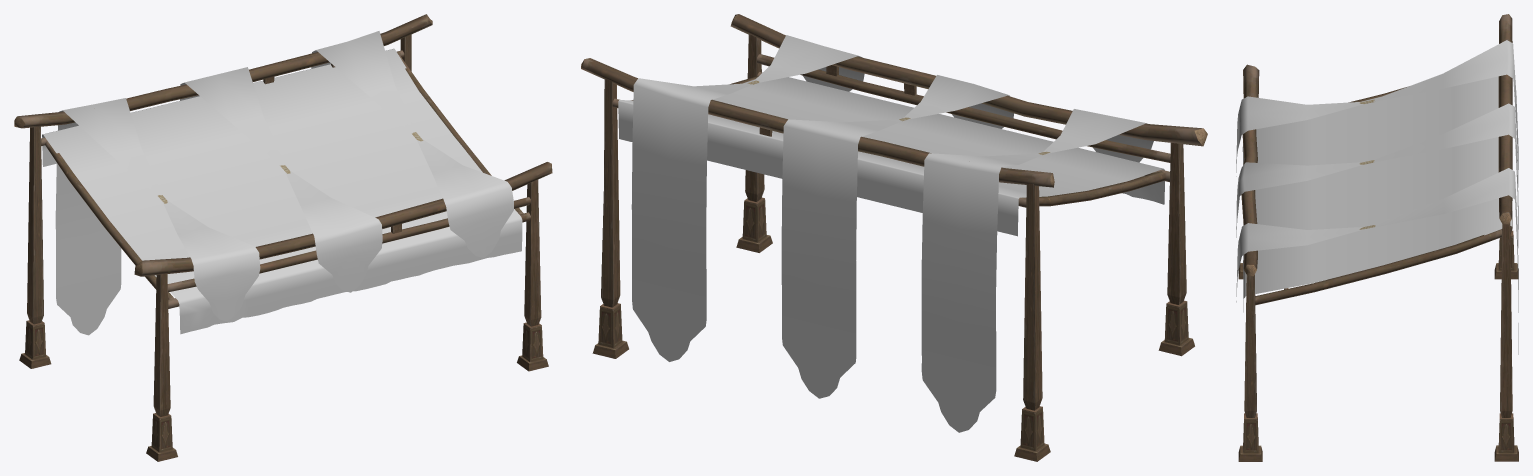
Rendered from Homeworld_Exterior_Xm_Build_Prop_GrayShadow_01_Lod0.fbx.
3 renders of one model, left to right at view 1: azimuth 30°, elevation 25°; view 2: azimuth 150°, elevation 25°; view 3: azimuth 270°, elevation 25°, orthographic. The views are drawn at different scales.
Visible parts, largest first — view 1: Area_Xm_Prop_XKC_Tanwei_NoShadow_09_Lod0; view 2: Area_Xm_Prop_XKC_Tanwei_NoShadow_09_Lod0; view 3: Area_Xm_Prop_XKC_Tanwei_NoShadow_09_Lod0.
Boxes of the visible parts, left/top/right/bottom form: Area_Xm_Prop_XKC_Tanwei_NoShadow_09_Lod0: left=14, top=14, right=552, bottom=461; Area_Xm_Prop_XKC_Tanwei_NoShadow_09_Lod0: left=581, top=14, right=1207, bottom=461; Area_Xm_Prop_XKC_Tanwei_NoShadow_09_Lod0: left=1236, top=14, right=1518, bottom=461.
Bounding box in the file's own units: 7.6 × 4.34 × 4.37.
